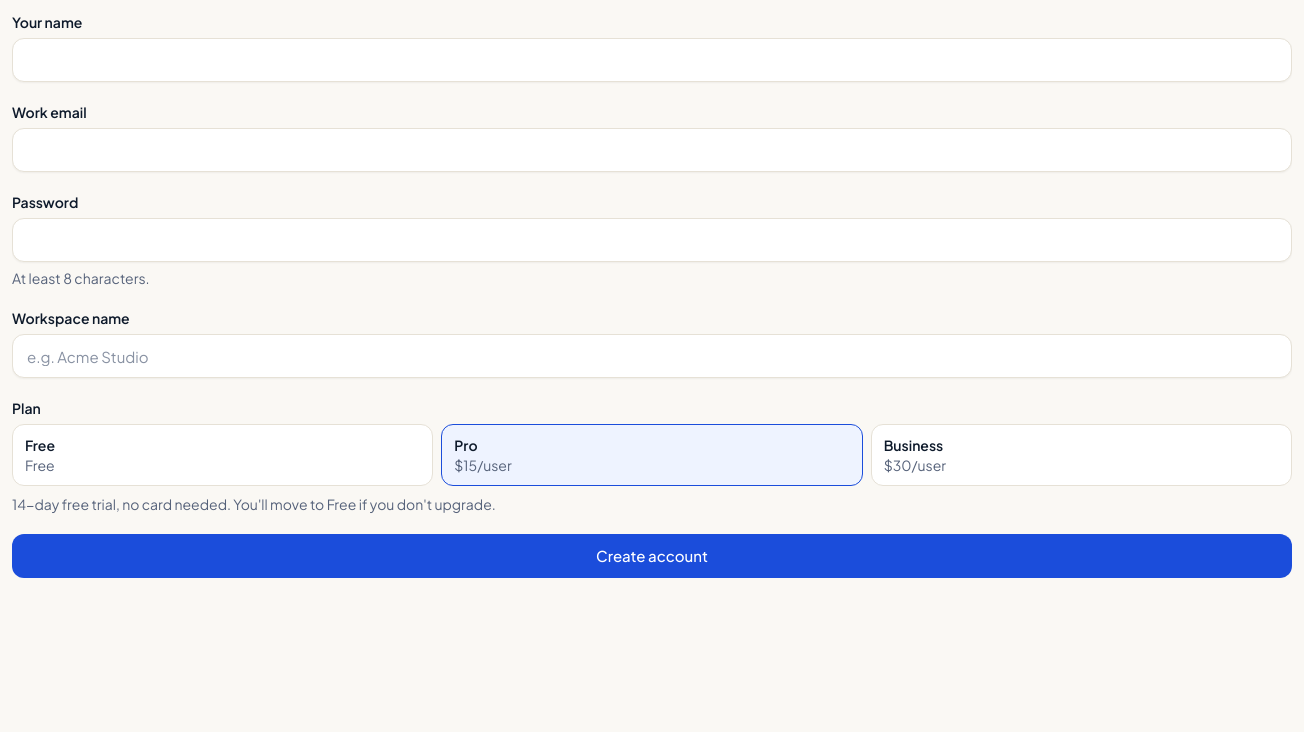
it: RegisterForm › tells the visitor when the email is already registered, with a way to log in
In the field labelled "Your name": (652, 60) [12, 38, 1292, 82], type "Sam Rivera"
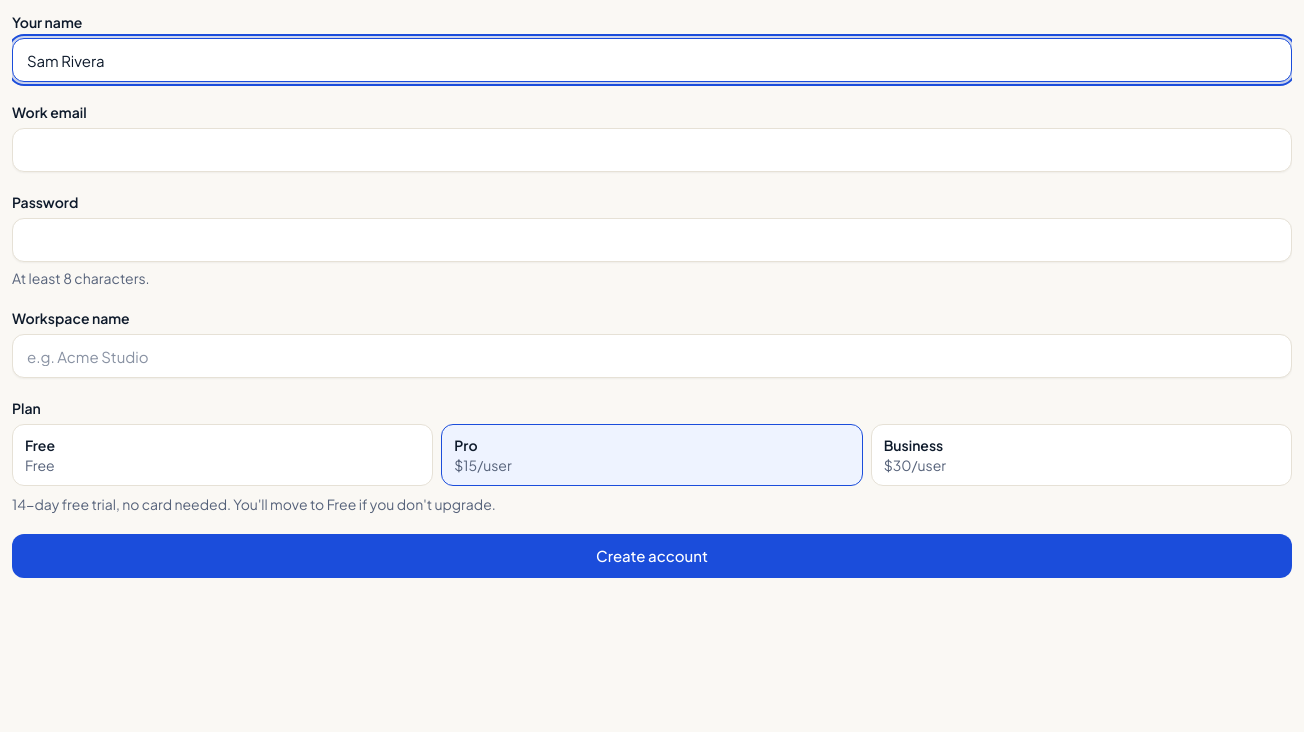
In the field labelled "Work email": (652, 150) [12, 128, 1292, 172], type "sam@example.com"
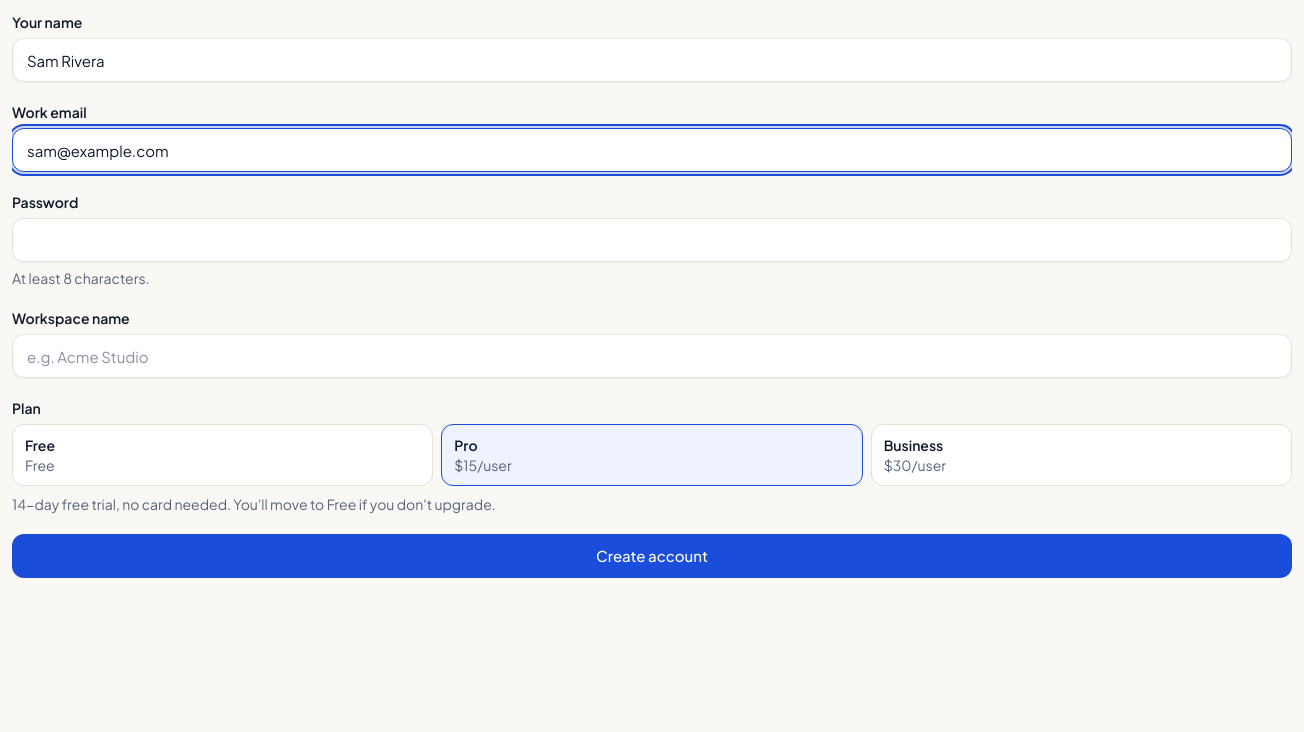
In the password field labelled "Password": (652, 240) [12, 218, 1292, 262], type "correct horse"
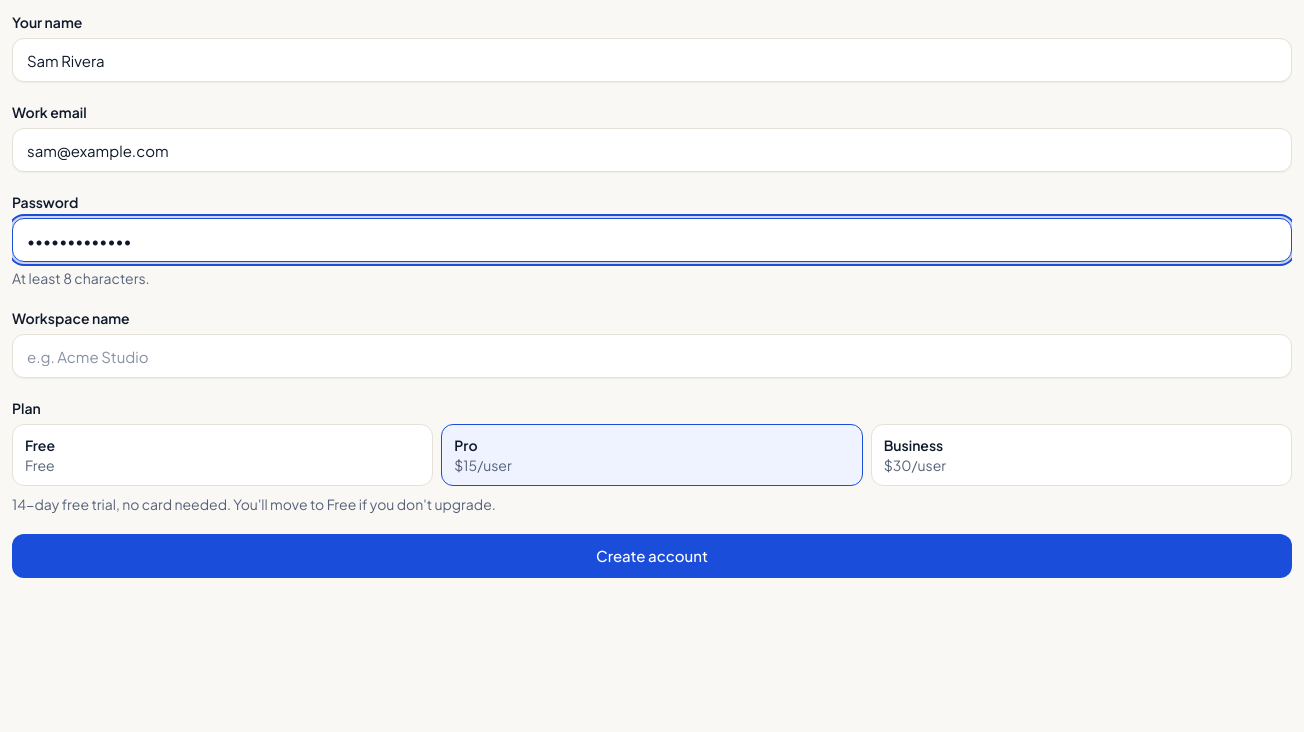
In the field labelled "Workspace name": (652, 356) [12, 334, 1292, 378], type "Rivera Labs"
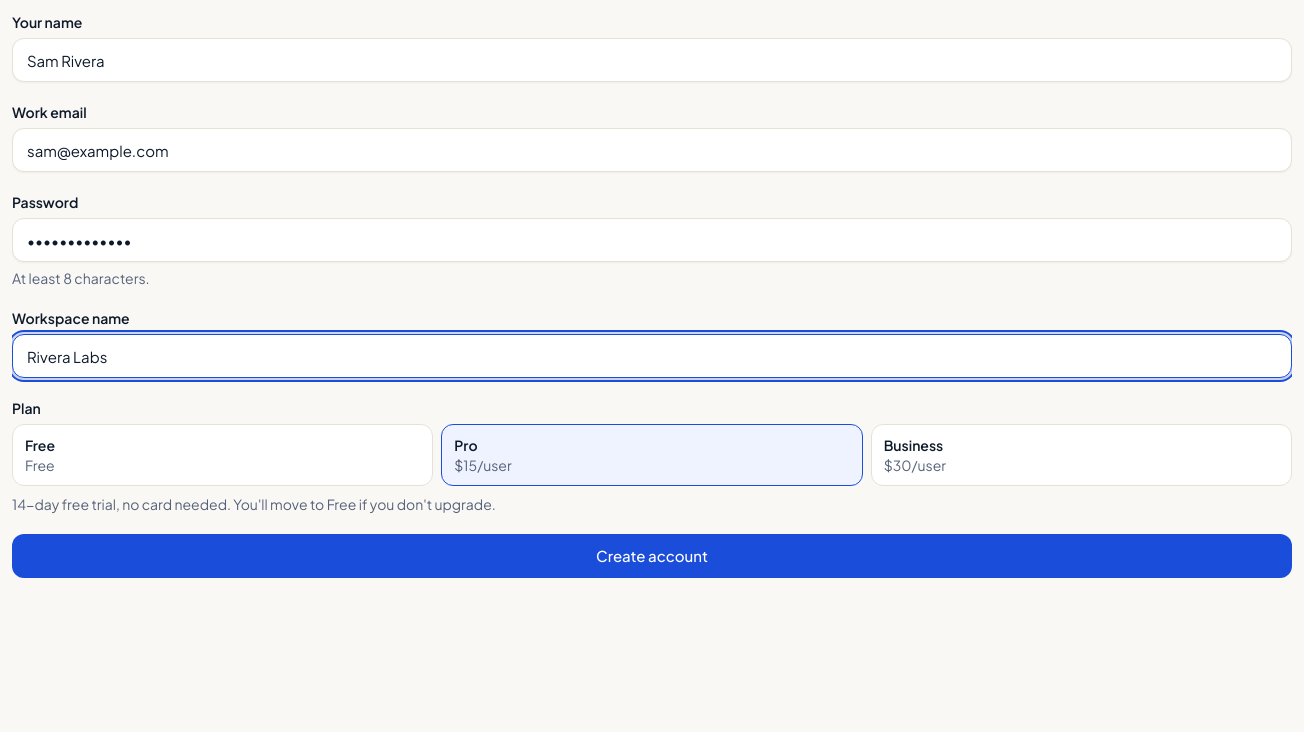
Click the button "Create account": (652, 556) [12, 534, 1292, 578]
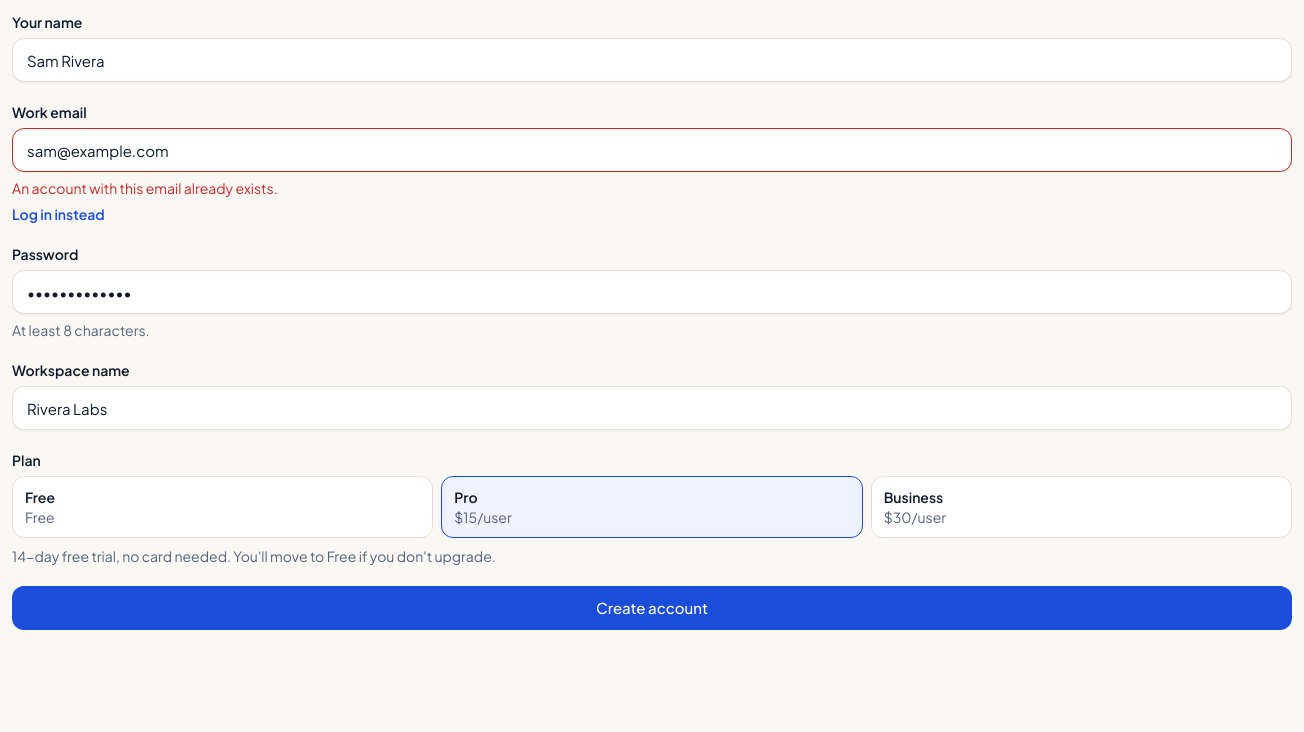
Expected: the text "An account with this email already exists." is shown, [12, 179, 278, 197]
